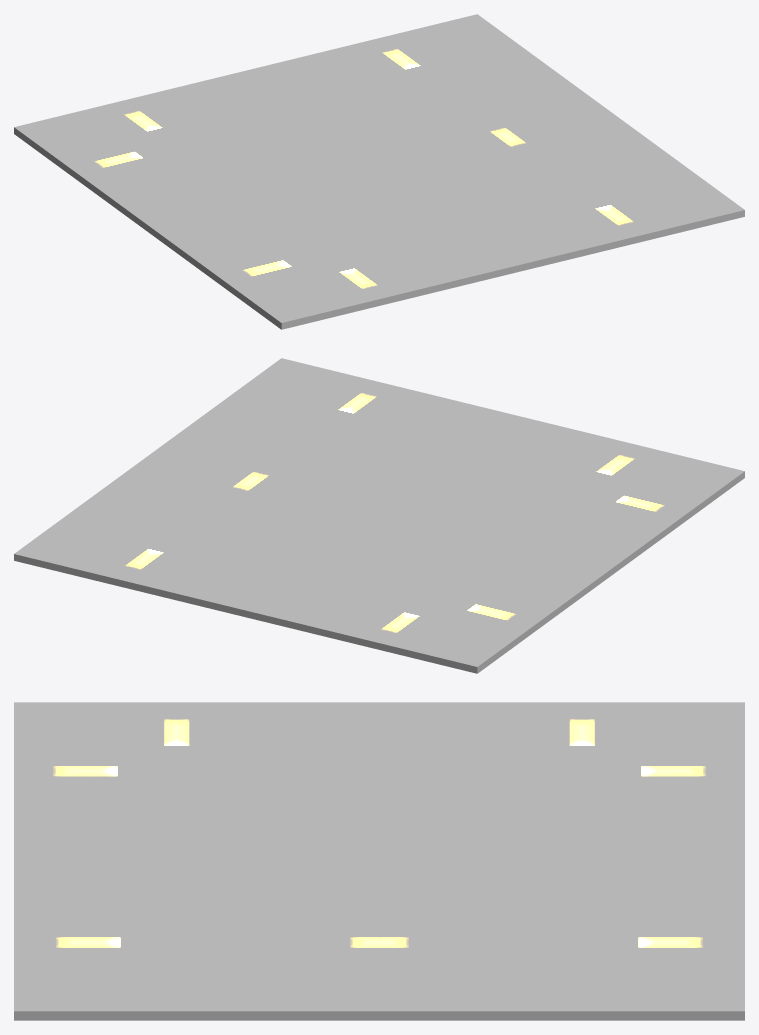
Rendered from FUT0510054.fbx.
3 renders of one model, top to bottom at view 1: azimuth 30°, elevation 25°; view 2: azimuth 150°, elevation 25°; view 3: azimuth 270°, elevation 25°, orthographic. The views are drawn at different scales.
Parts seen in each view (by area): view 1: smFUT0510054; view 2: smFUT0510054; view 3: smFUT0510054.
Boxes of the visible parts, bbox=[...] form: smFUT0510054: bbox=[14, 14, 744, 329]; smFUT0510054: bbox=[14, 358, 744, 673]; smFUT0510054: bbox=[14, 702, 744, 1020].
Size of the model in its own units: 305 by 4.27 by 305.
